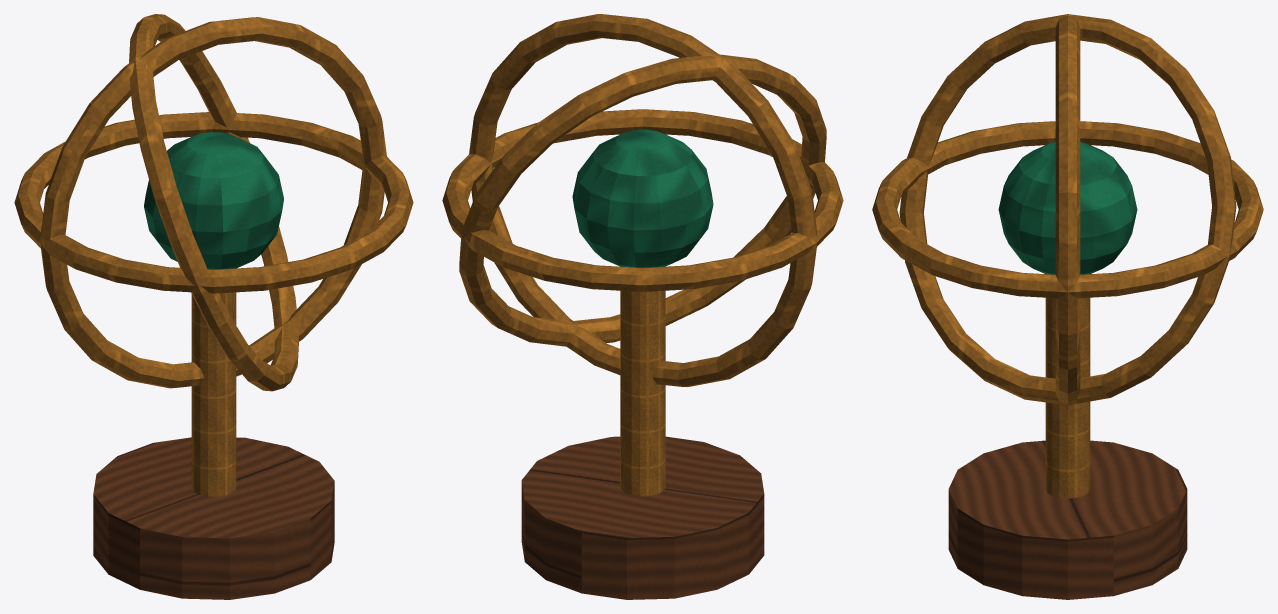
Rendered from brass_astrolabe.glb.
The picture shows the model from 3 angles, left to right: view 1: azimuth 30°, elevation 25°; view 2: azimuth 150°, elevation 25°; view 3: azimuth 270°, elevation 25°; orthographic projection. The views are drawn at different scales.
Parts seen in each view (by area): view 1: brass_astrolabe_Brass, brass_astrolabe_Walnut, brass_astrolabe_Jade; view 2: brass_astrolabe_Brass, brass_astrolabe_Walnut, brass_astrolabe_Jade; view 3: brass_astrolabe_Brass, brass_astrolabe_Walnut, brass_astrolabe_Jade.
Part boxes in pixels (<box>): brass_astrolabe_Brass: <box>14,14,413,496</box>; brass_astrolabe_Walnut: <box>93,437,334,599</box>; brass_astrolabe_Jade: <box>144,132,283,269</box>; brass_astrolabe_Brass: <box>442,14,843,496</box>; brass_astrolabe_Walnut: <box>521,436,764,599</box>; brass_astrolabe_Jade: <box>572,129,713,267</box>; brass_astrolabe_Brass: <box>872,14,1263,498</box>; brass_astrolabe_Walnut: <box>948,440,1187,599</box>; brass_astrolabe_Jade: <box>998,142,1137,274</box>.
Size of the model in its own units: 1.41 by 2.06 by 1.41.
3 materials, 3 textured.
